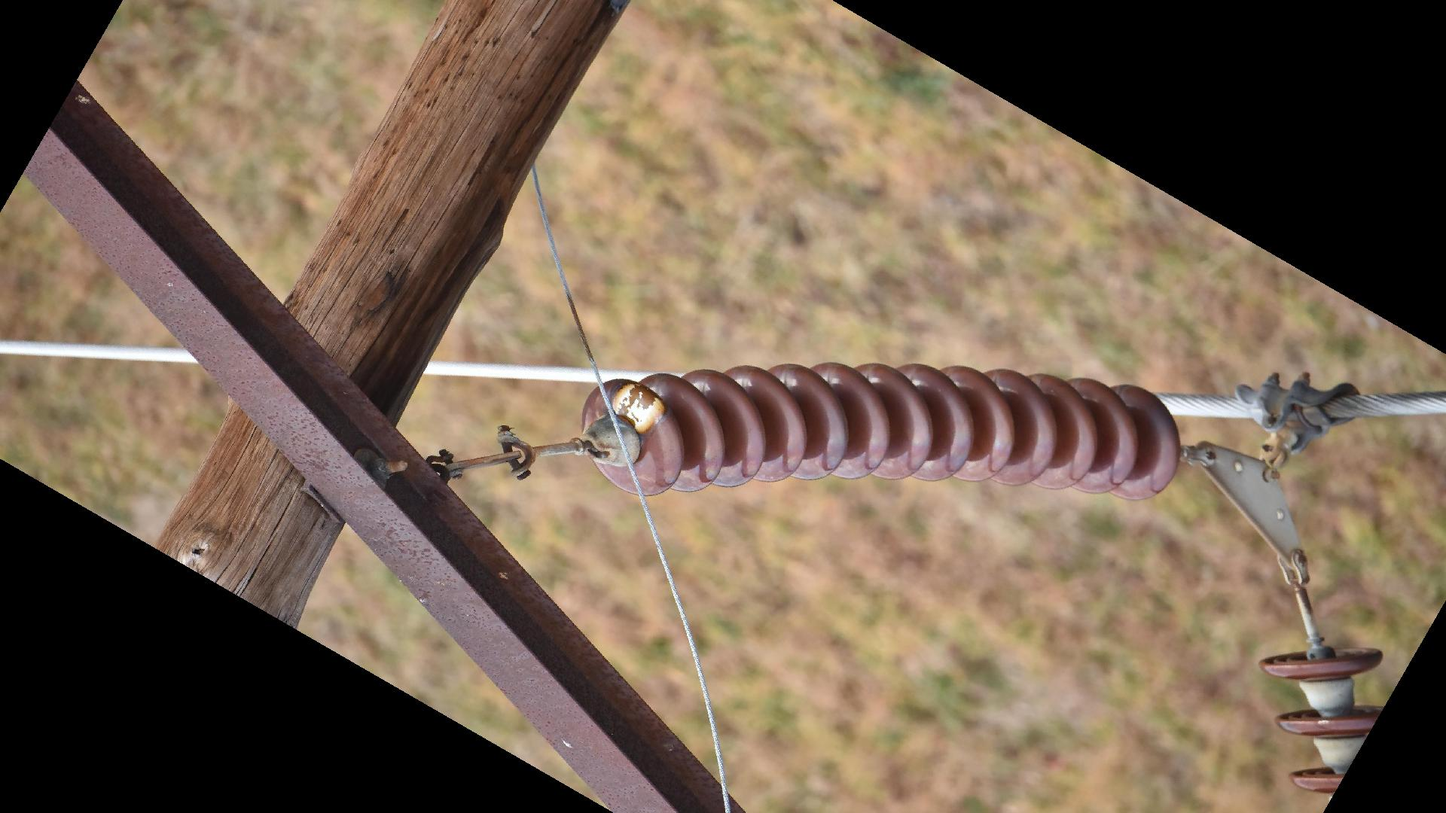insulator: (575, 357, 1188, 507), (1255, 641, 1385, 801)
insulator_flashover: (610, 380, 668, 437)
